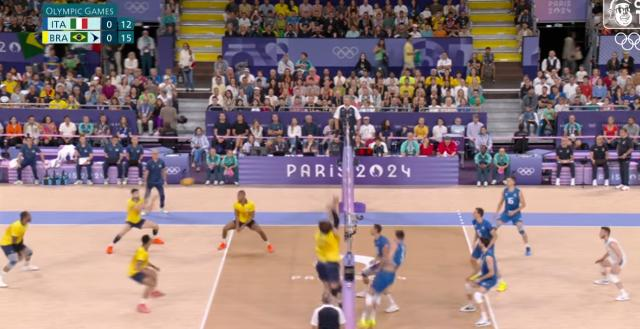Levantador: (319, 199, 343, 309), (469, 206, 497, 250)
Libero: (599, 227, 627, 298)
bola: (179, 178, 193, 188)
